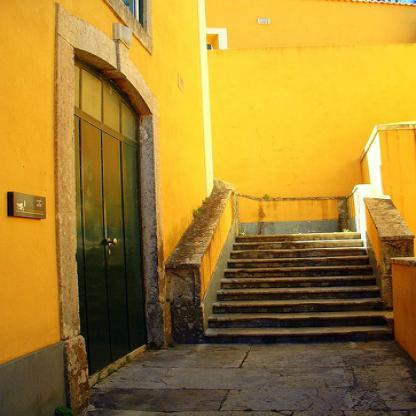stairs: (244, 236, 354, 344)
